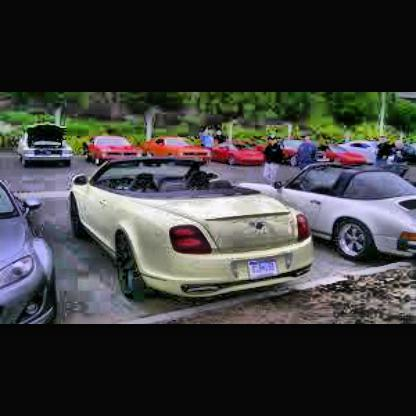Bentley Continental Supersports Conv- Convertible 2012: (71, 153, 320, 308)
